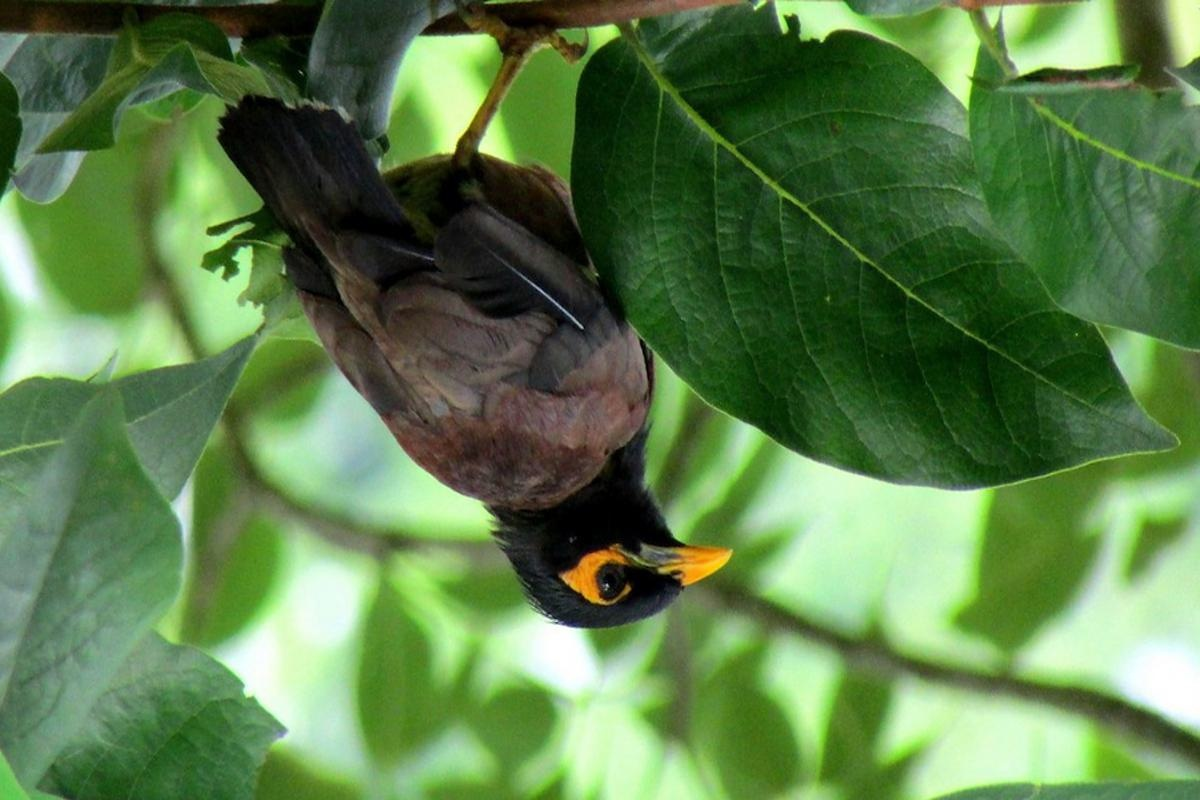myna: (299, 36, 750, 645)
